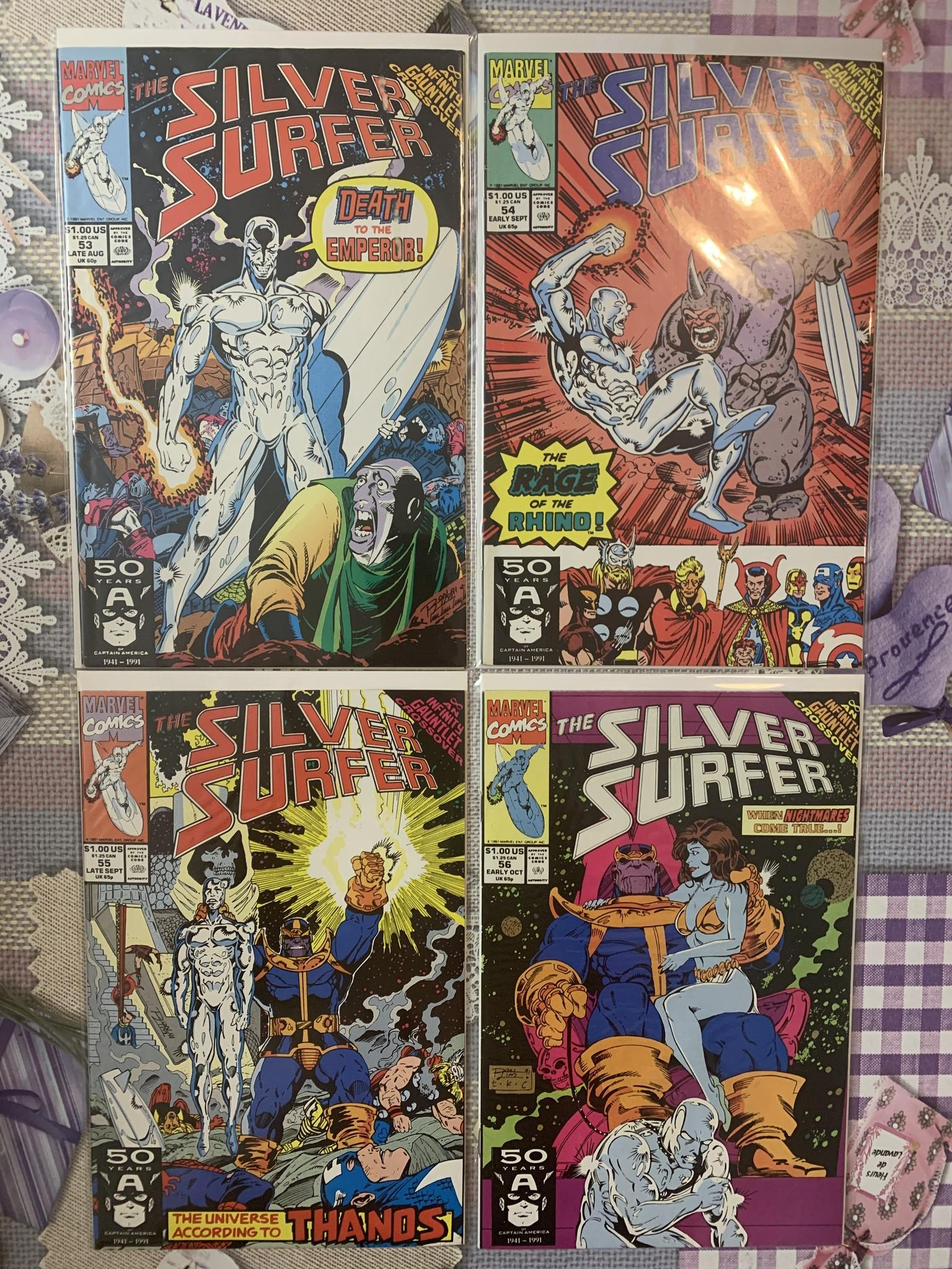comic: (56, 29, 468, 668), (473, 36, 882, 668), (477, 671, 862, 1251), (79, 671, 464, 1247)
